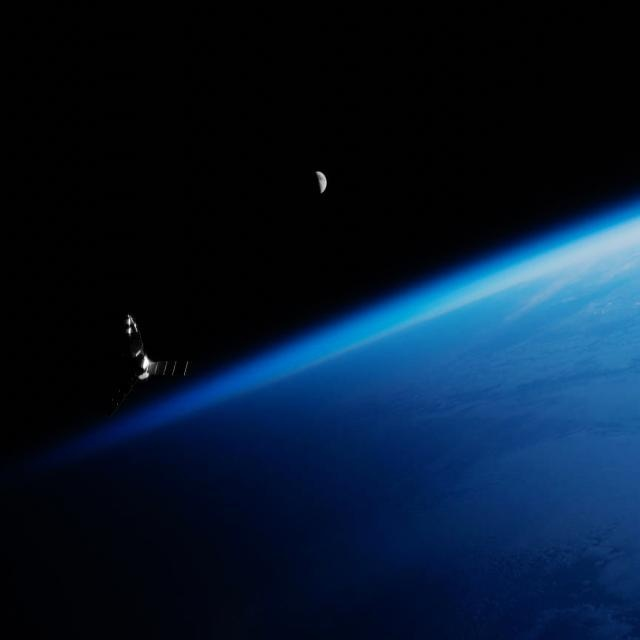satellite: (95, 302, 197, 400)
